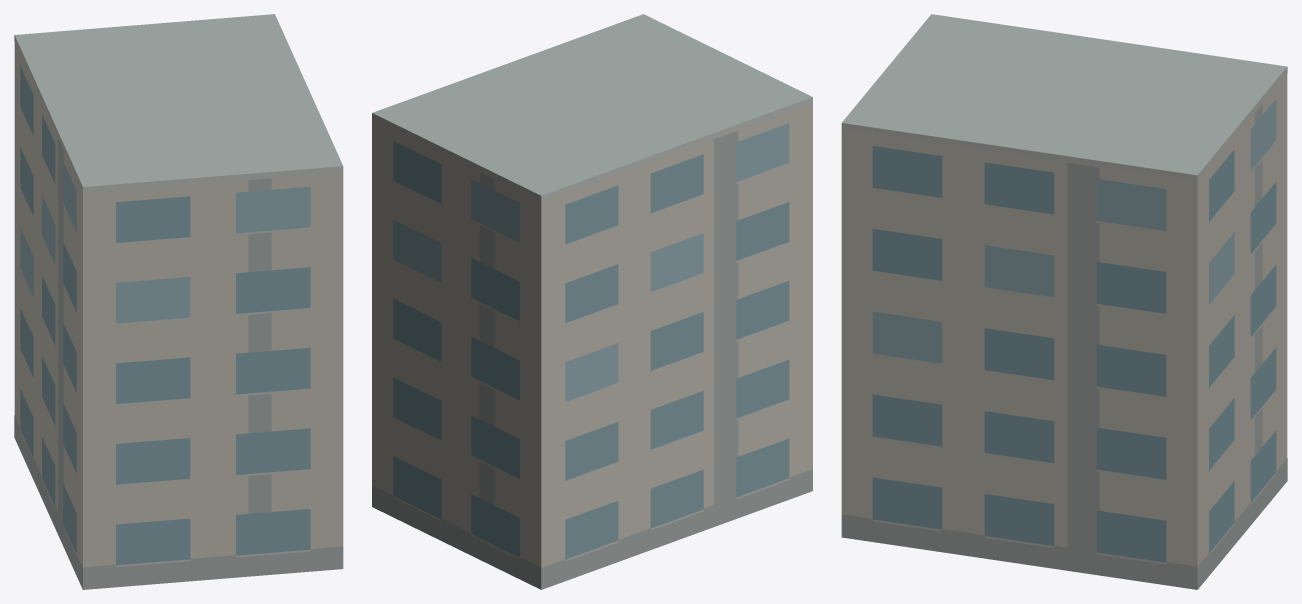
The model's file is residential-f0b661b8-2f1c-43a3-9429-5e44f46d8ef4.glb.
3 views of the same model, side by side, from view 1: azimuth 30°, elevation 25°; view 2: azimuth 150°, elevation 25°; view 3: azimuth 270°, elevation 25° (orthographic). The views are drawn at different scales.
Visible parts, largest first — view 1: residential-f0b661b8-2f1c-43a3-9429-5e44f46d8ef4.tmp; view 2: residential-f0b661b8-2f1c-43a3-9429-5e44f46d8ef4.tmp; view 3: residential-f0b661b8-2f1c-43a3-9429-5e44f46d8ef4.tmp.
Part boxes in pixels (x1,y1,x2,y2): residential-f0b661b8-2f1c-43a3-9429-5e44f46d8ef4.tmp: (14,14,343,589); residential-f0b661b8-2f1c-43a3-9429-5e44f46d8ef4.tmp: (372,14,812,589); residential-f0b661b8-2f1c-43a3-9429-5e44f46d8ef4.tmp: (841,14,1287,589).
Bounding box in the file's own units: 12.74 × 15.25 × 14.87.
